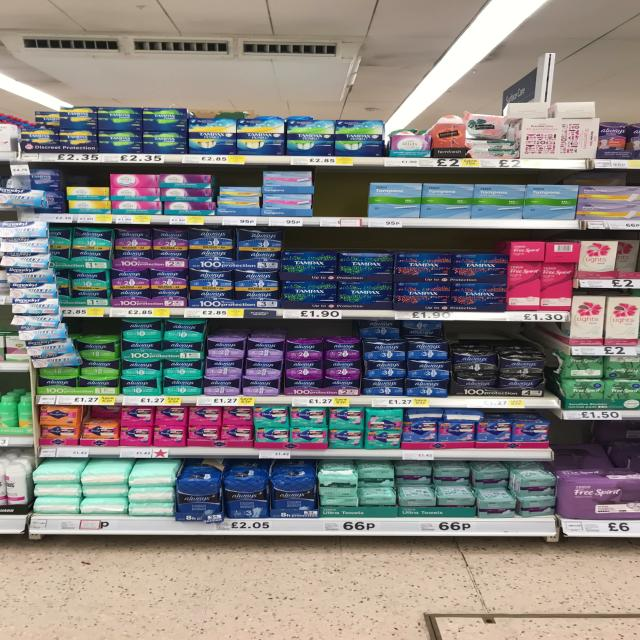empty: (317, 174, 362, 219)
